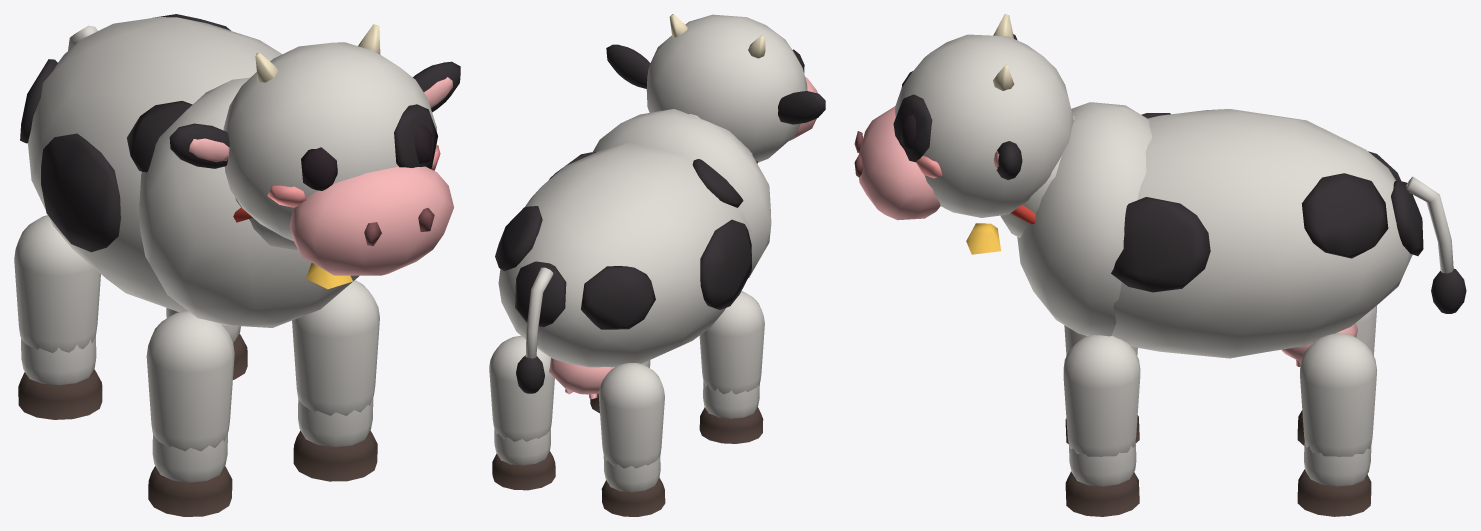
Rendered from animal_cow.glb.
3 views of the same model, side by side, from view 1: azimuth 30°, elevation 25°; view 2: azimuth 150°, elevation 25°; view 3: azimuth 270°, elevation 25° (orthographic). The views are drawn at different scales.
Parts seen in each view (by area): view 1: body_body, head_body, thigh, thigh.001, thigh.002, knee_BR_body, knee_FR_body, knee_FL_body, ear_R_body, ear_L_body, neck_body, knee_BL_body; view 2: body_body, head_body, thigh.002, thigh, thigh.003, knee_FR_body, knee_BL_body, knee_BR_body, tail_body, ear_R_body, ear_L_body; view 3: body_body, head_body, thigh.003, thigh.001, knee_FL_body, knee_BL_body, tail_body, neck_body, ear_L_body.
Boxes of the visible parts, x1,y1,x2,y2 form: body_body: [20, 14, 359, 327]; head_body: [223, 24, 453, 275]; thigh: [146, 311, 234, 451]; thigh.001: [292, 280, 379, 415]; thigh.002: [14, 215, 100, 352]; knee_BR_body: [18, 334, 102, 419]; knee_FR_body: [148, 433, 232, 516]; knee_FL_body: [293, 398, 377, 481]; ear_R_body: [169, 123, 229, 168]; ear_L_body: [413, 61, 460, 112]; neck_body: [233, 198, 352, 289]; knee_BL_body: [166, 308, 247, 379]; body_body: [495, 109, 771, 398]; head_body: [646, 14, 817, 162]; thigh.002: [598, 363, 664, 468]; thigh: [699, 291, 764, 394]; thigh.003: [489, 336, 554, 441]; knee_FR_body: [699, 381, 763, 443]; knee_BL_body: [492, 429, 555, 490]; knee_BR_body: [601, 455, 665, 516]; tail_body: [516, 267, 553, 393]; ear_R_body: [778, 91, 825, 124]; ear_L_body: [606, 44, 650, 88]; body_body: [1017, 102, 1423, 366]; head_body: [854, 14, 1073, 220]; thigh.003: [1300, 333, 1376, 456]; thigh.001: [1063, 335, 1140, 456]; knee_FL_body: [1065, 442, 1139, 516]; knee_BL_body: [1297, 442, 1371, 516]; tail_body: [1406, 176, 1466, 313]; neck_body: [966, 116, 1074, 254]; ear_L_body: [993, 141, 1022, 179].
Bounding box in the file's own units: 0.7613 × 1.21 × 1.55.
